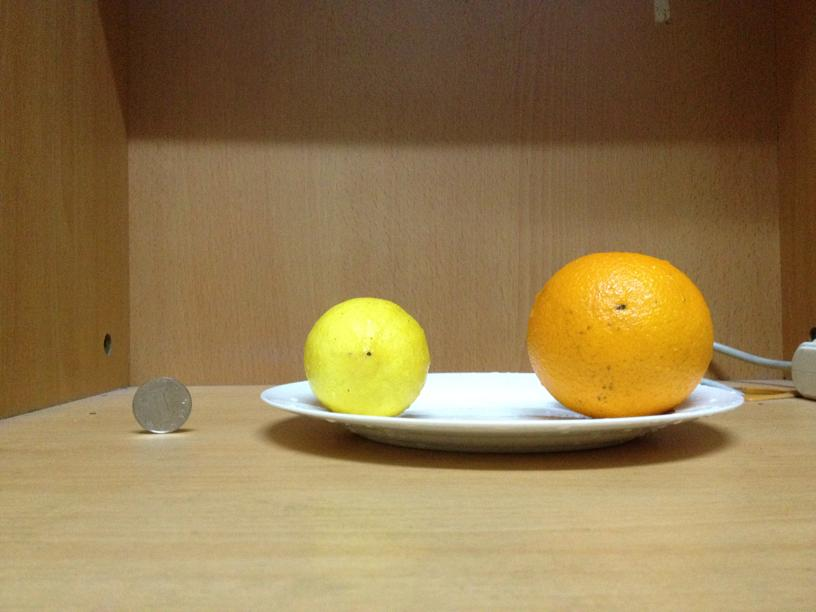coin: (133, 375, 192, 432)
lemon: (299, 296, 428, 417)
orange: (526, 250, 712, 415)
